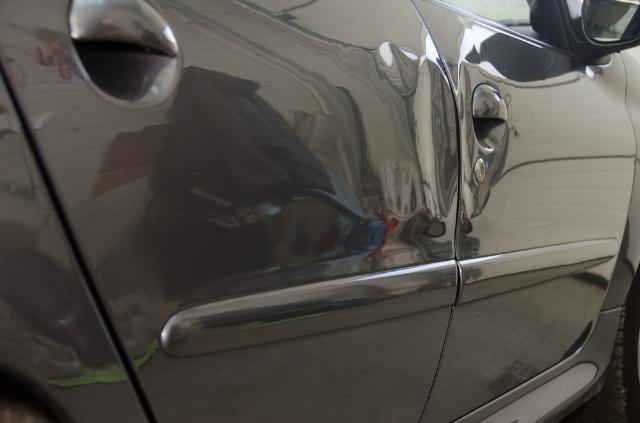dent: (353, 45, 460, 270), (456, 64, 506, 216)
